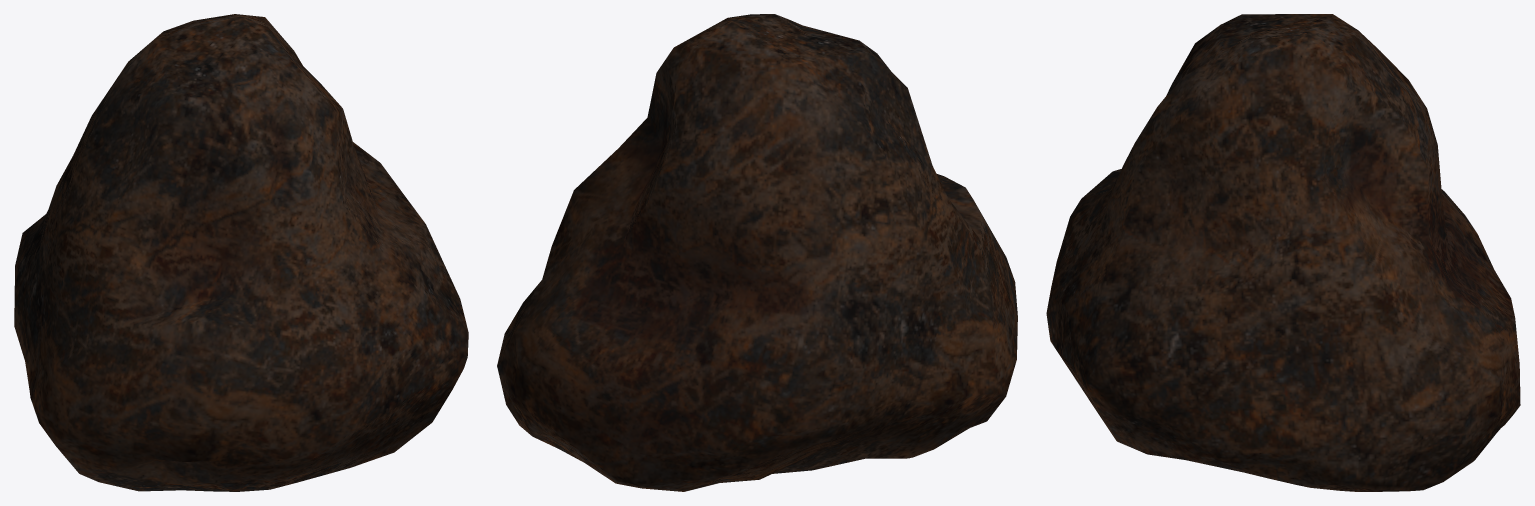
Rendered from sb_obj_nature007_Rock05b.fbx.
The picture shows the model from 3 angles, left to right: view 1: azimuth 30°, elevation 25°; view 2: azimuth 150°, elevation 25°; view 3: azimuth 270°, elevation 25°; orthographic projection. The views are drawn at different scales.
Visible parts, largest first — view 1: sb_obj_nature007_Rock05b; view 2: sb_obj_nature007_Rock05b; view 3: sb_obj_nature007_Rock05b.
Part boxes in pixels (left/top/right/bottom): sb_obj_nature007_Rock05b: left=14, top=14, right=468, bottom=491; sb_obj_nature007_Rock05b: left=497, top=14, right=1017, bottom=491; sb_obj_nature007_Rock05b: left=1046, top=14, right=1520, bottom=491.
Bounding box in the file's own units: 1.62 × 1.56 × 1.65.
